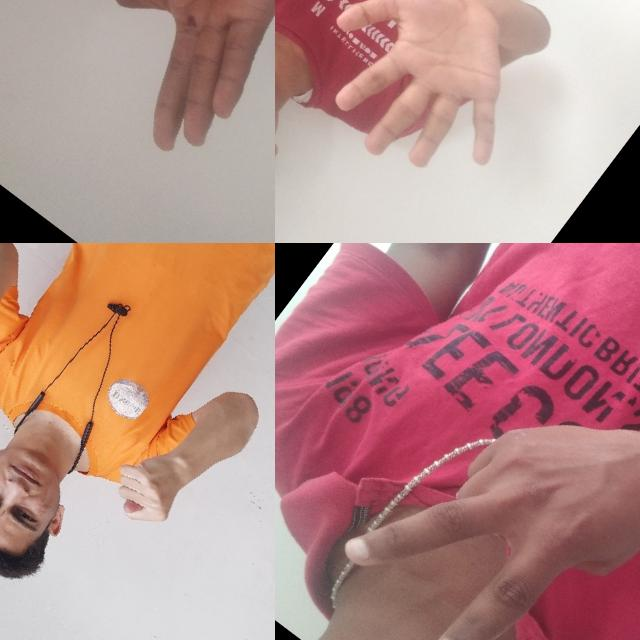Dulya: (90, 427, 211, 549), (0, 292, 23, 410)
Moutza: (280, 0, 577, 216)
Okay: (0, 0, 275, 176)
Reversed Victory: (313, 300, 640, 640)
